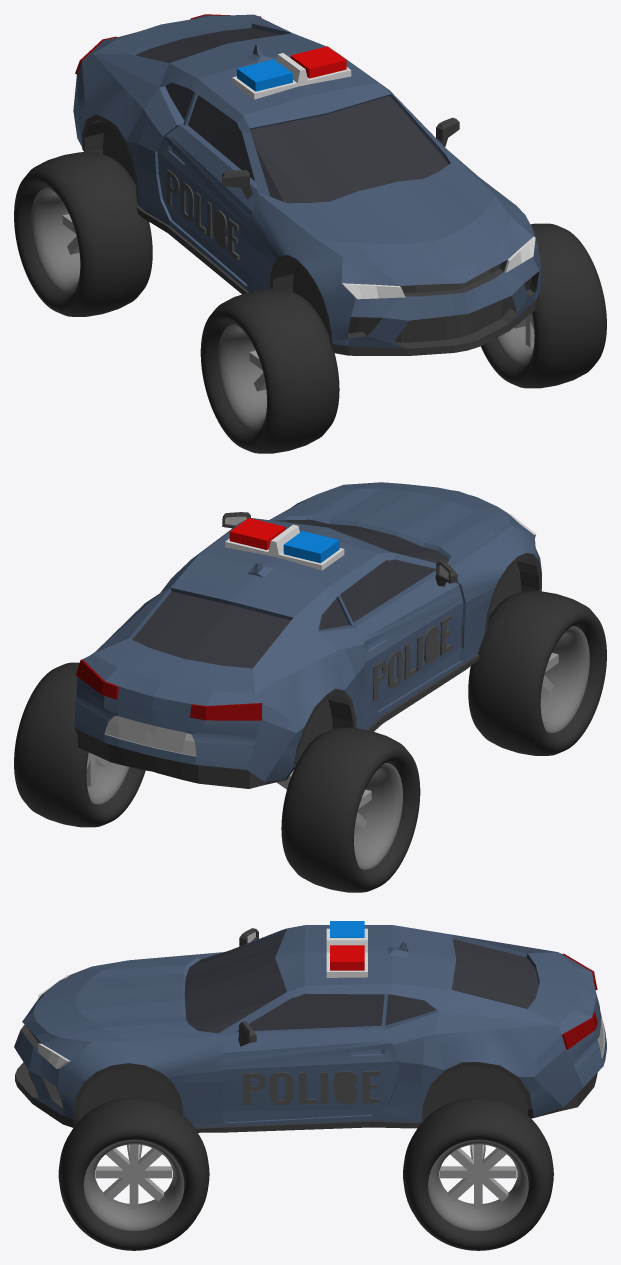
Rendered from Police Monster Truck.fbx.
3 views of the same model, one above another, from view 1: azimuth 30°, elevation 25°; view 2: azimuth 150°, elevation 25°; view 3: azimuth 270°, elevation 25° (orthographic). The views are drawn at different scales.
Parts seen in each view (by area): view 1: polySurface59, Tier (×3), polySurface43, polySurface65, pPipe4 (×3), Police_Lights, Left_Side_Police_Text, polySurface41; view 2: polySurface59, Tier (×3), polySurface43, pPipe4 (×3), polySurface65, Police_Lights, Left_Side_Police_Text, polySurface45, polySurface49; view 3: polySurface59, Tier (×2), polySurface43, polySurface65, pPipe4 (×2), Right_Side_Police_Text, Police_Lights, pCube875 (×2), pCube876 (×2), pCube874 (×2), pCube873 (×2), polySurface49 (+1 smaller).
Part boxes in pixels (x1,y1,x2,y2): polySurface59: [73, 14, 541, 348]; Tier (×3): [14, 152, 606, 453]; polySurface43: [135, 28, 448, 203]; polySurface65: [82, 114, 539, 355]; pPipe4 (×3): [31, 187, 533, 430]; Police_Lights: [232, 46, 351, 99]; Left_Side_Police_Text: [166, 169, 239, 259]; polySurface41: [342, 236, 535, 299]; polySurface59: [74, 482, 541, 781]; Tier (×3): [14, 591, 606, 892]; polySurface43: [132, 519, 449, 668]; pPipe4 (×3): [87, 626, 589, 869]; polySurface65: [74, 552, 541, 788]; Police_Lights: [225, 518, 344, 570]; Left_Side_Police_Text: [373, 615, 451, 700]; polySurface45: [104, 715, 196, 756]; polySurface49: [76, 659, 262, 720]; polySurface59: [14, 925, 606, 1127]; Tier (×2): [58, 1097, 553, 1250]; polySurface43: [184, 932, 538, 1033]; polySurface65: [15, 1024, 597, 1132]; pPipe4 (×2): [83, 1140, 528, 1230]; Right_Side_Police_Text: [243, 1071, 379, 1104]; Police_Lights: [326, 921, 367, 977]; pCube875 (×2): [95, 1166, 516, 1178]; pCube876 (×2): [104, 1148, 506, 1201]; pCube874 (×2): [106, 1148, 508, 1201]; pCube873 (×2): [129, 1144, 482, 1208]; polySurface49: [562, 953, 597, 1049].
Size of what is drawn, in the model's own units: 48.42 by 36.3 by 79.69.
